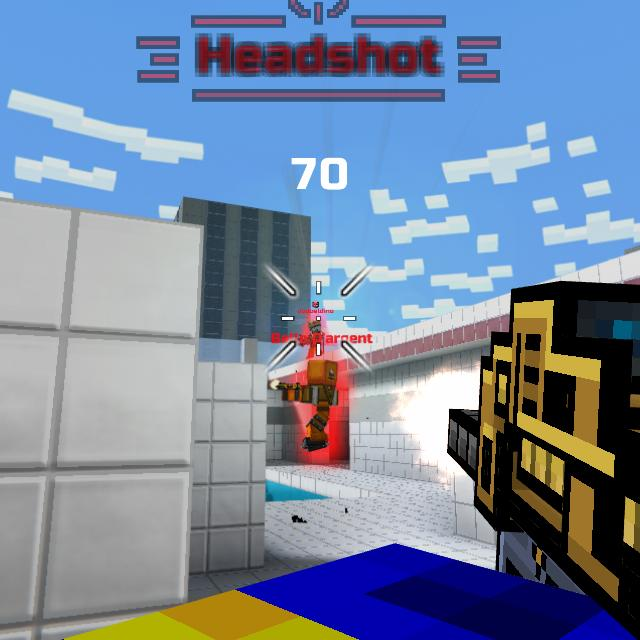Enemy: (289, 356, 341, 450), (305, 318, 323, 352)
